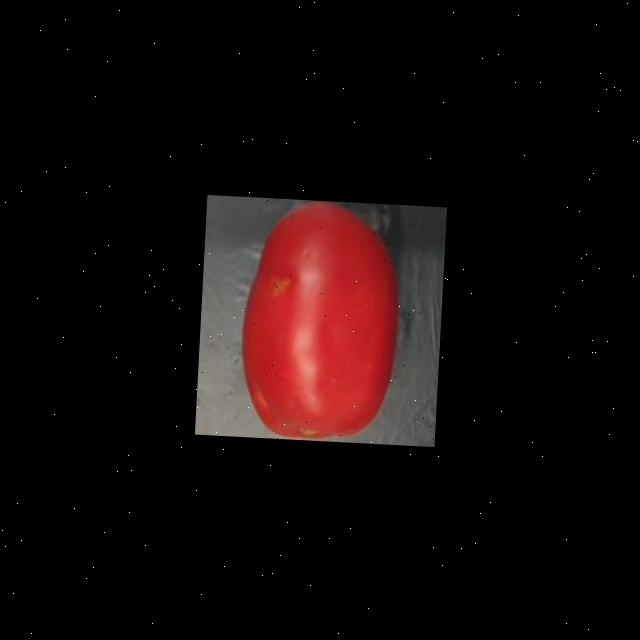tomato: (231, 197, 411, 444)
